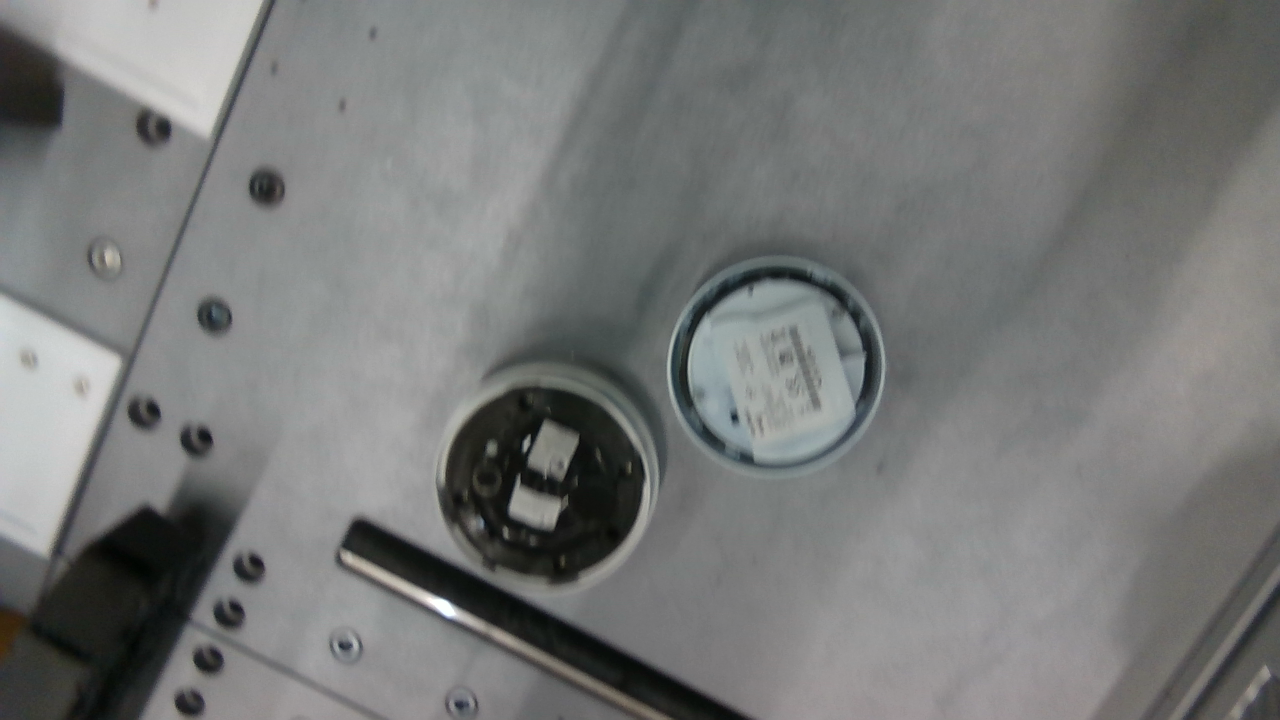HexScrew: (832, 305, 847, 326), (554, 557, 571, 570), (691, 387, 705, 401), (621, 462, 633, 474)
